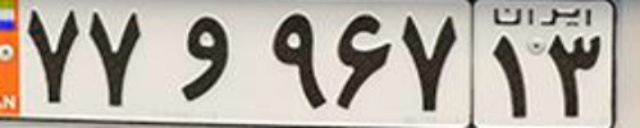1: (491, 34, 526, 116)
3: (547, 34, 601, 116)
6: (338, 13, 390, 110)
7: (402, 13, 457, 111), (25, 7, 79, 103), (89, 11, 140, 106)
9: (269, 12, 325, 109)
vav: (183, 16, 229, 101)
